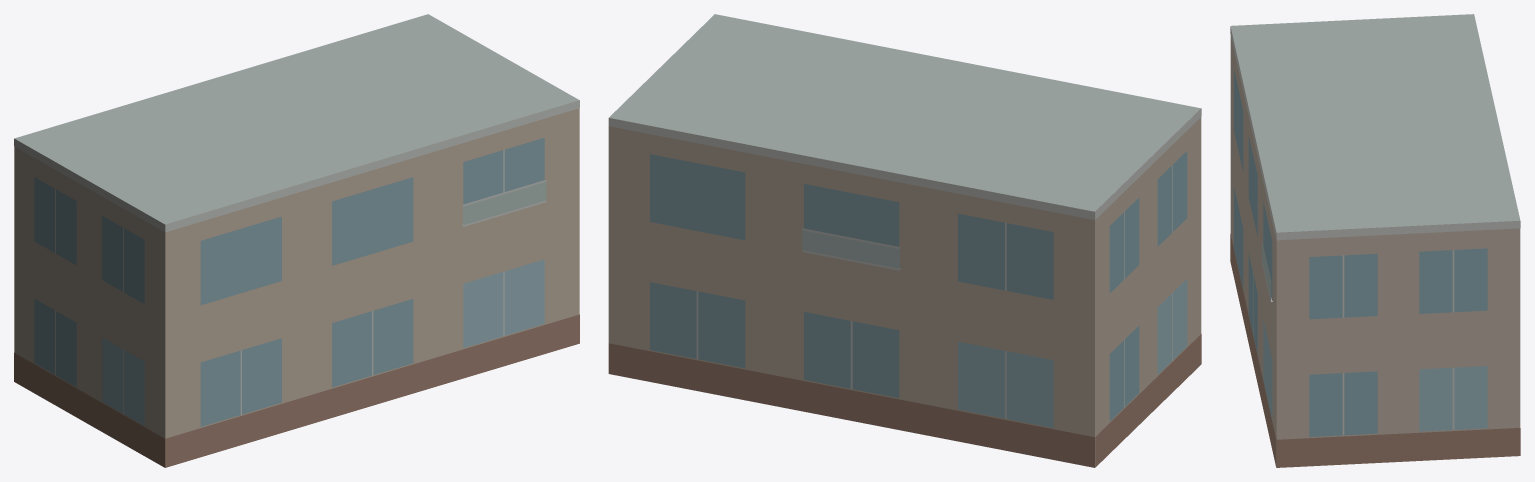
Rendered from survey-upis-32619318.glb.
The picture shows the model from 3 angles, left to right: view 1: azimuth 30°, elevation 25°; view 2: azimuth 150°, elevation 25°; view 3: azimuth 270°, elevation 25°; orthographic projection. The views are drawn at different scales.
Parts seen in each view (by area): view 1: survey-upis-32619318.tmp; view 2: survey-upis-32619318.tmp; view 3: survey-upis-32619318.tmp.
Part boxes in pixels (x1,y1,x2,y2): survey-upis-32619318.tmp: (14,14,579,467); survey-upis-32619318.tmp: (608,14,1201,467); survey-upis-32619318.tmp: (1230,14,1520,467).
Bounding box in the file's own units: 14.96 × 7.5 × 8.39.
